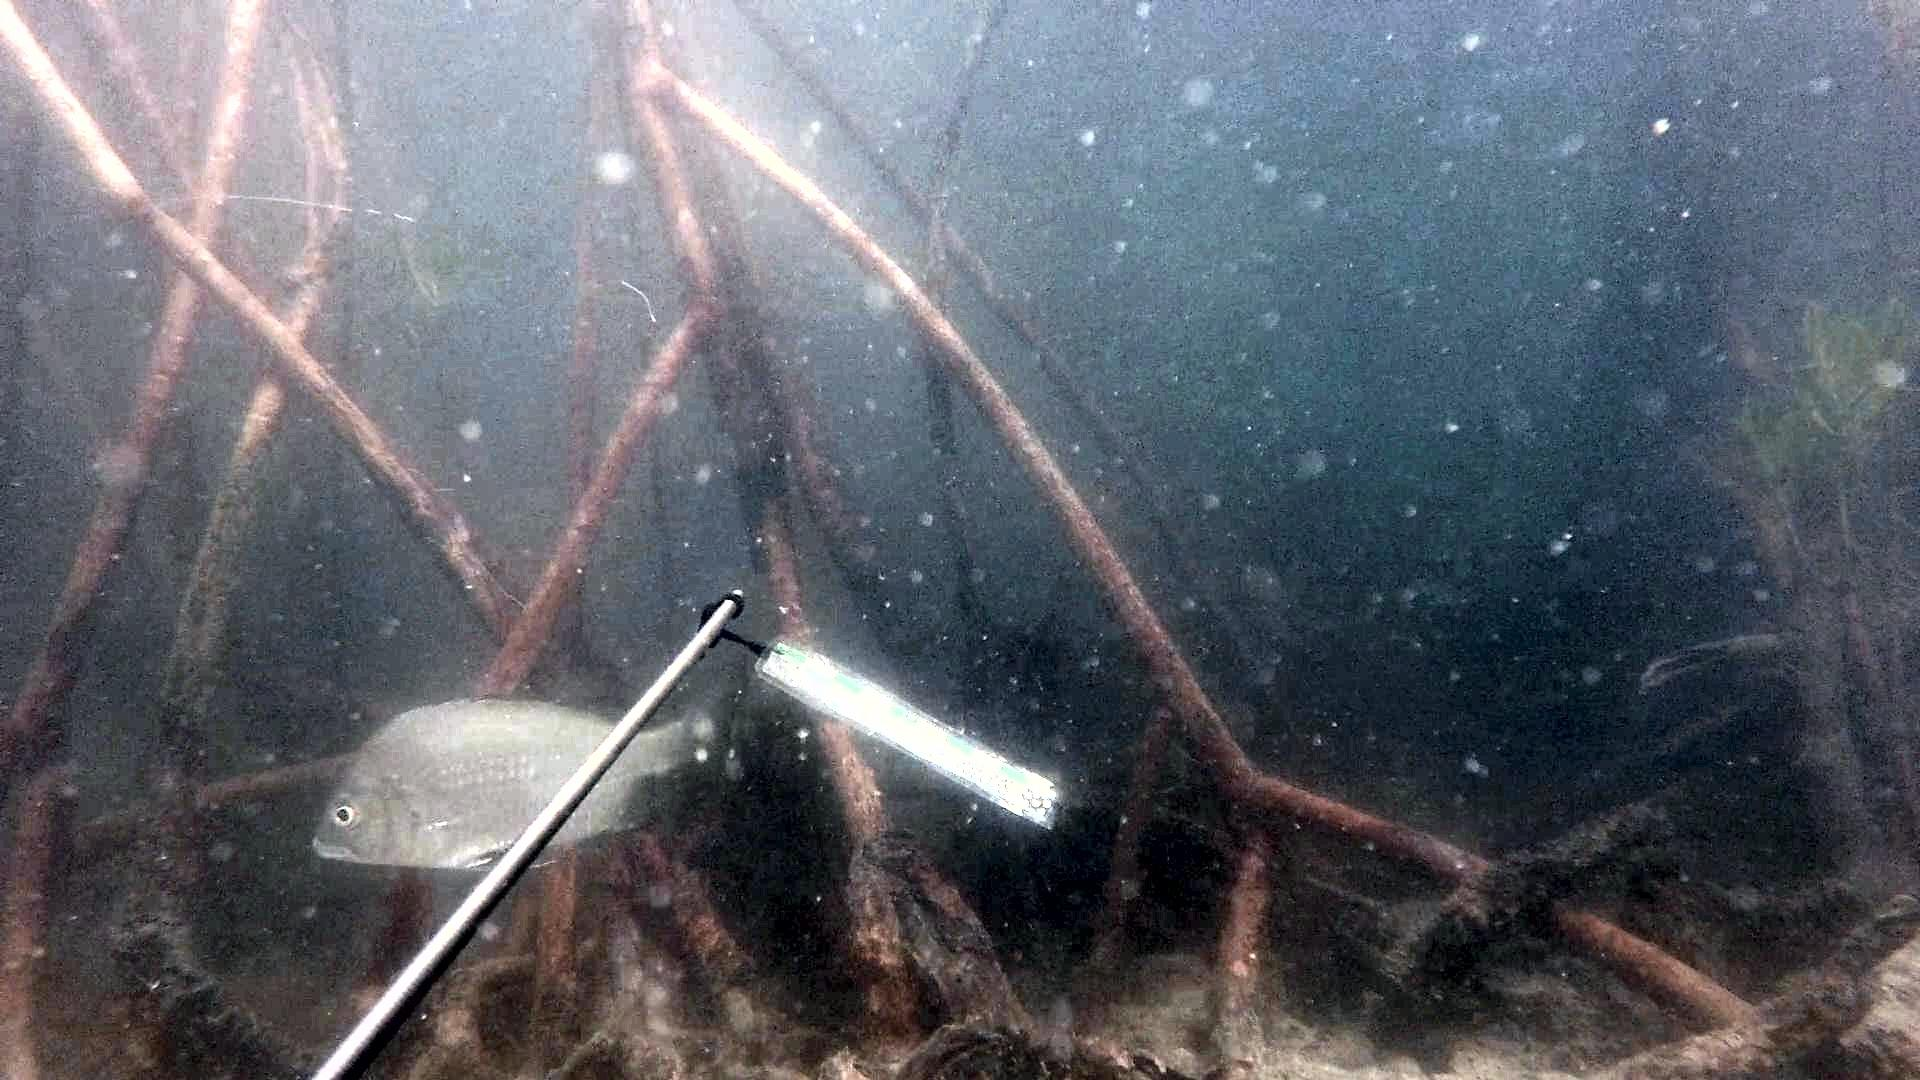acanthopagrus palmaris: (303, 673, 741, 888)
